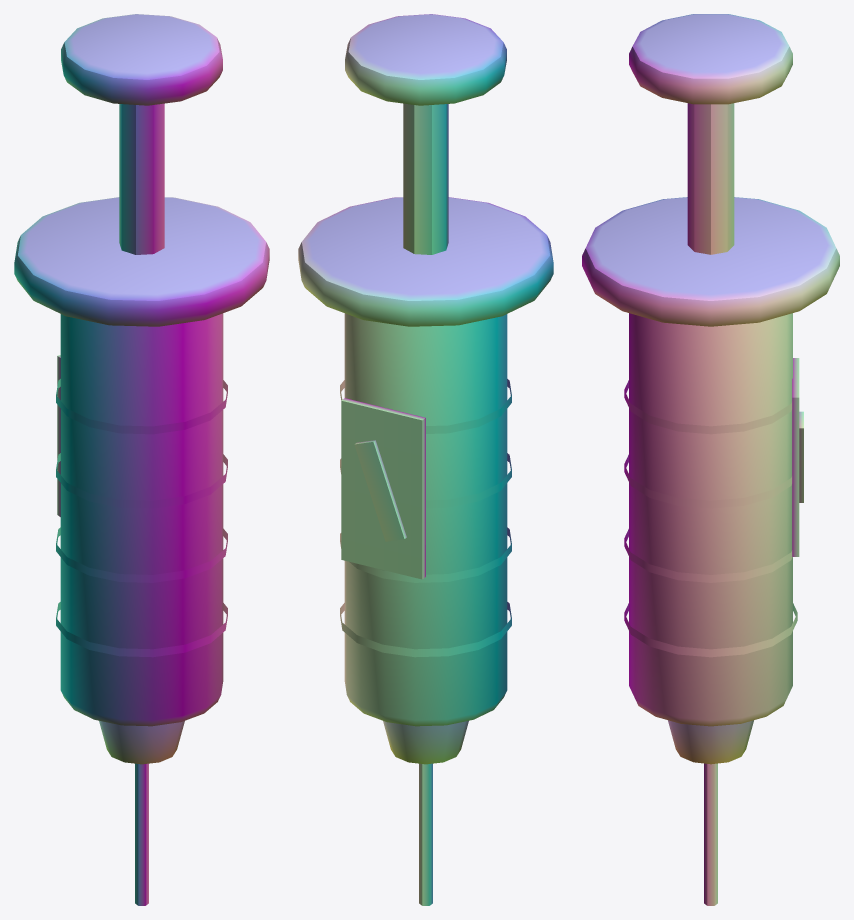
Rendered from gad_adren.glb.
The picture shows the model from 3 angles, left to right: view 1: azimuth 30°, elevation 25°; view 2: azimuth 150°, elevation 25°; view 3: azimuth 270°, elevation 25°; orthographic projection.
Parts seen in each view (by area): view 1: adren; view 2: adren; view 3: adren.
Boxes of the visible parts, <box> form: adren: <box>14,14,269,905</box>; adren: <box>298,14,553,905</box>; adren: <box>582,14,839,905</box>.
Size of the model in its own units: 0.044 by 0.162 by 0.044.
